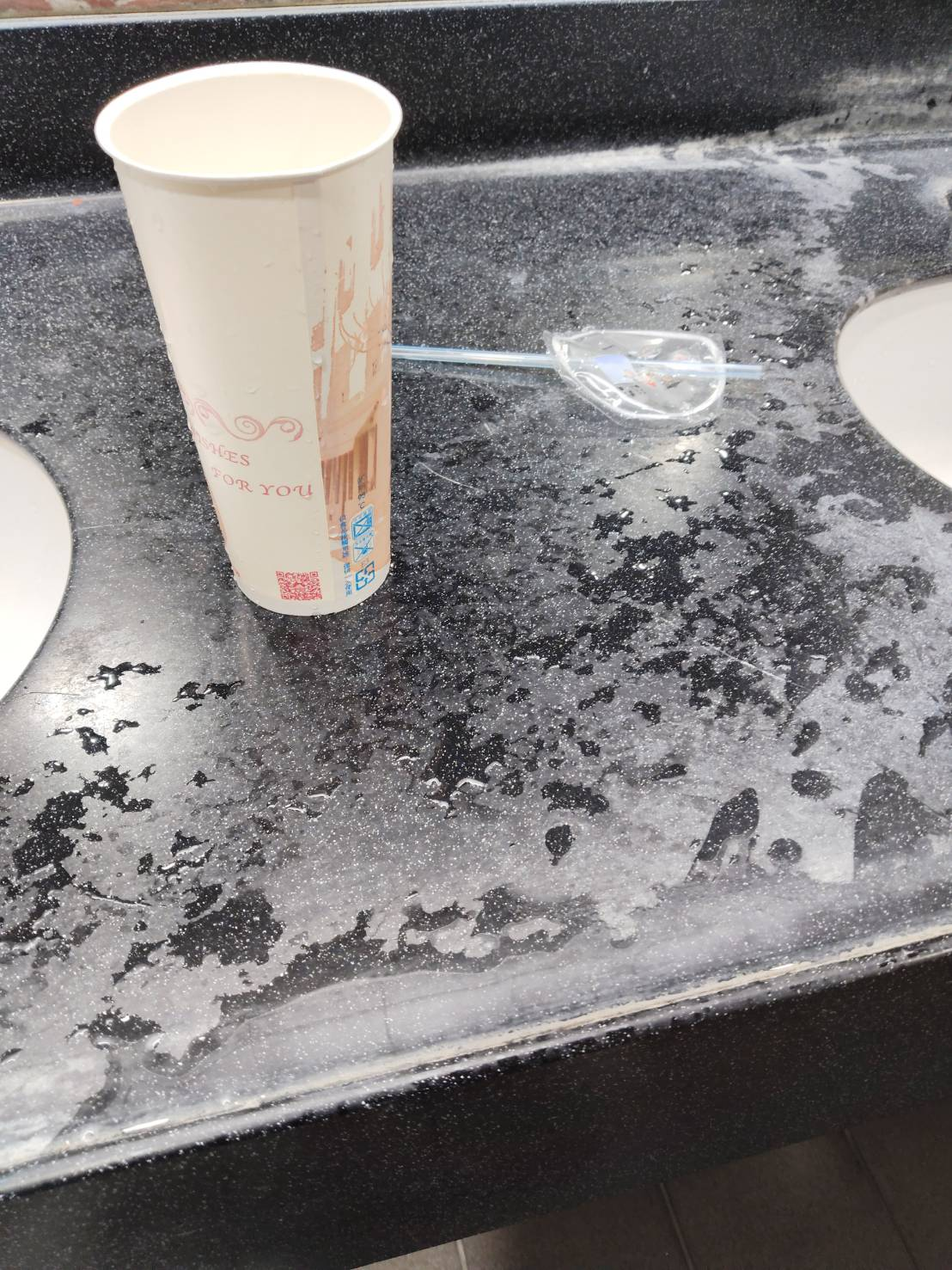paper: (46, 37, 424, 666)
plastic: (395, 274, 812, 435)
